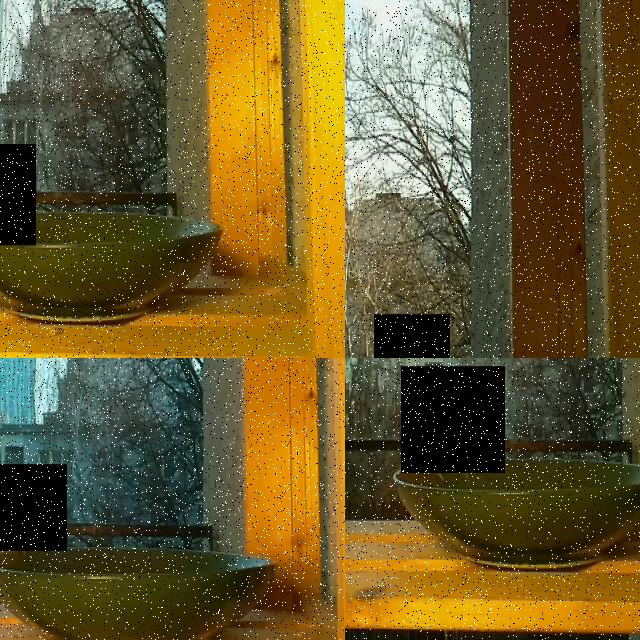Modraszka: (0, 464, 67, 550), (374, 314, 450, 358)
Wrobel: (401, 366, 505, 473), (0, 143, 36, 245)
